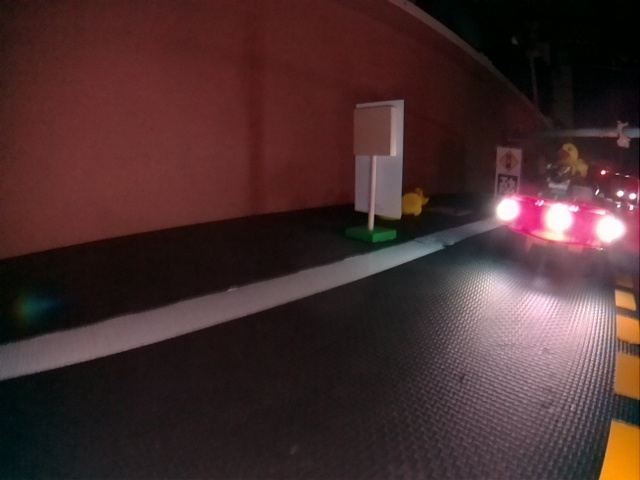Duckie: (557, 145, 588, 176), (403, 193, 421, 216)
Duckiebot: (496, 170, 626, 266), (612, 185, 636, 205)
QR code: (496, 177, 519, 196)
Signal sign: (500, 151, 519, 170)
